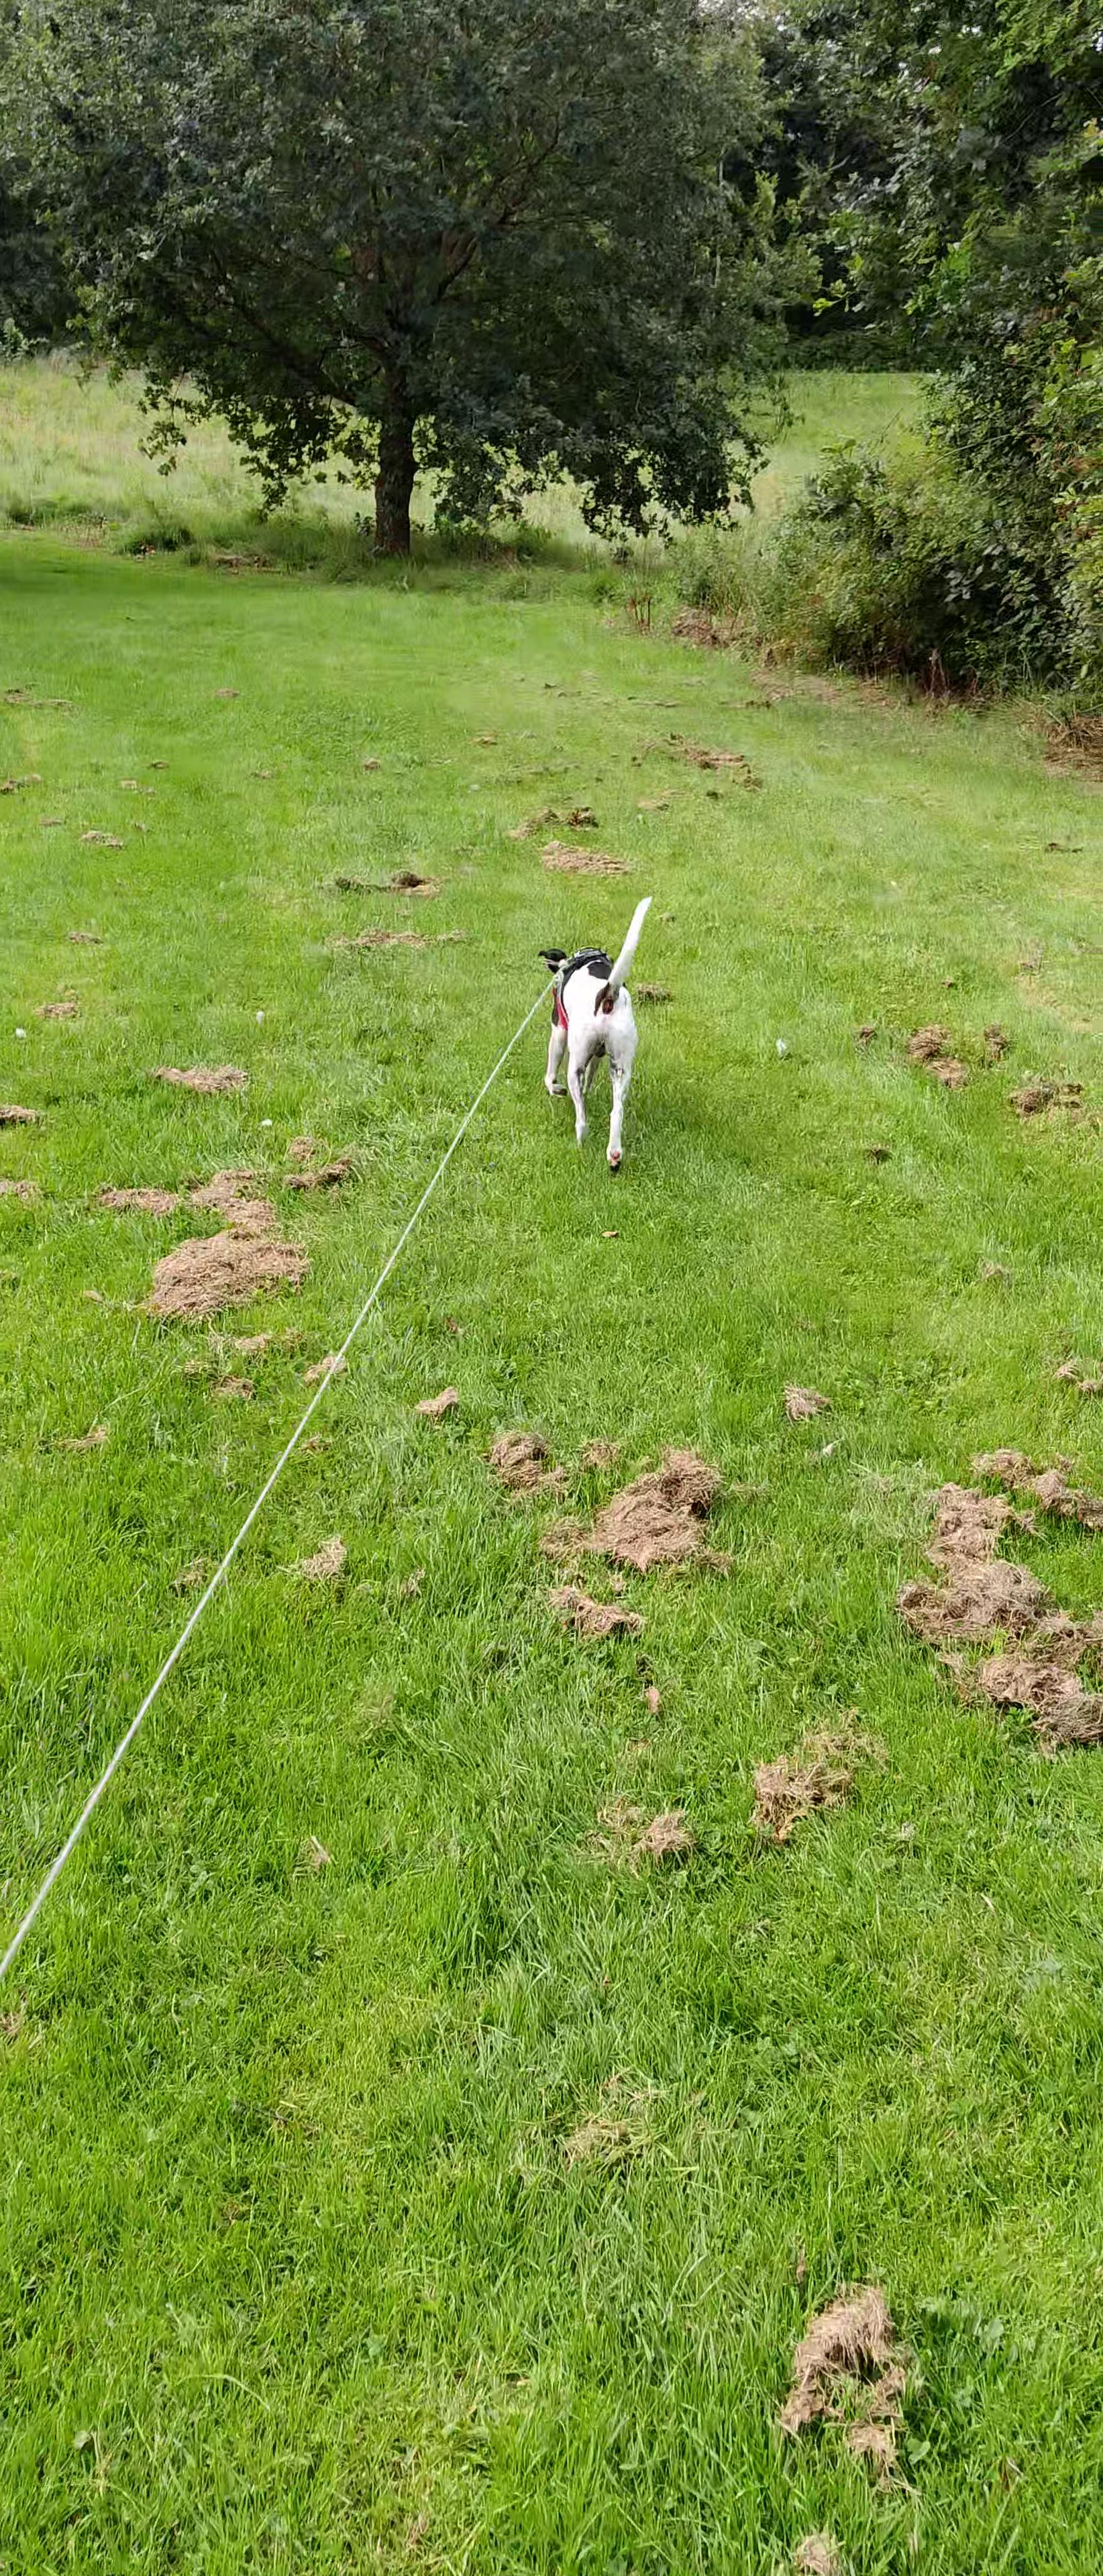Dog: (529, 885, 664, 1194)
